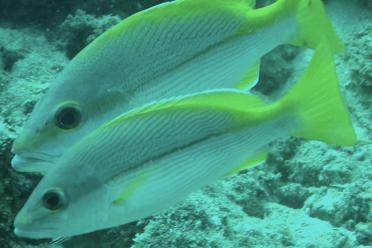Lutjanidae -Snappers-: (10, 31, 358, 245), (9, 0, 346, 180)
